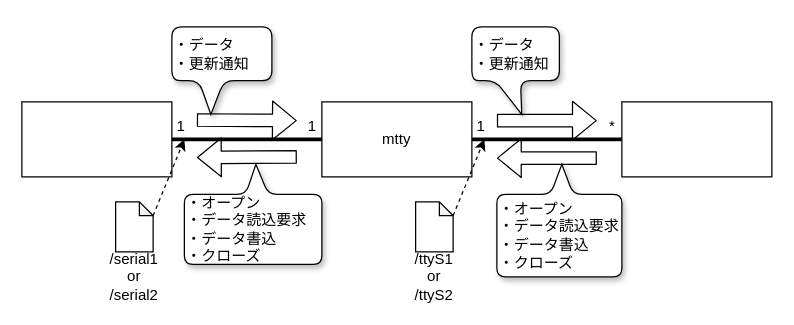
Some shapes in this 794 by 325 pixel diagram are drawn without their labels. The shapes that lost their labels are listed below. From the top down, each one's centre as x and y in pixels, then its label:
(x=96, y=139): drv-ns16550
(x=696, y=139): user
